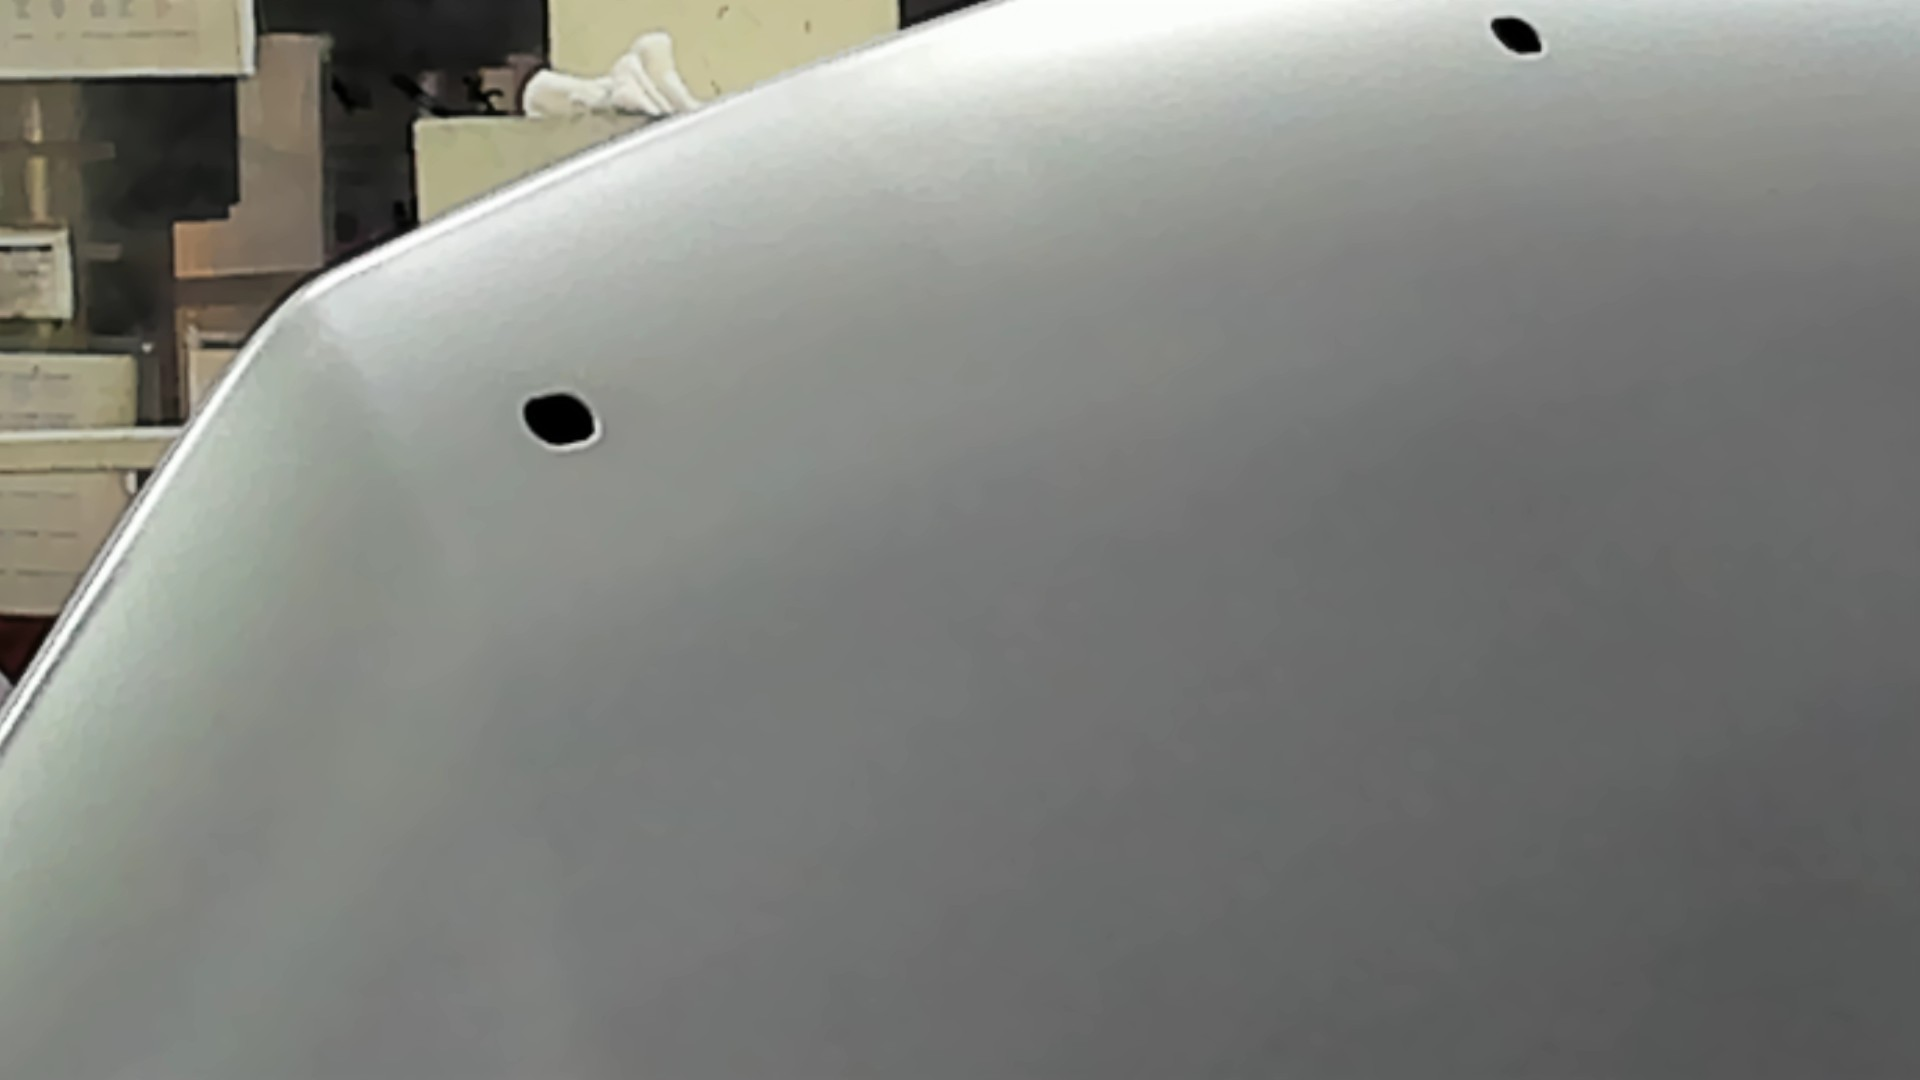amorfo: (516, 385, 604, 455), (1480, 11, 1557, 65)
